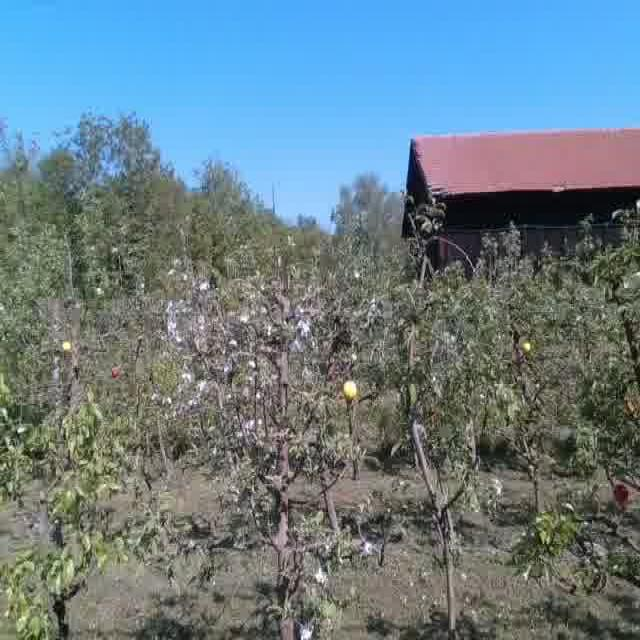red: (609, 478, 635, 511), (108, 366, 121, 380)
yellow: (339, 380, 362, 402), (60, 338, 75, 354), (521, 338, 532, 352)
